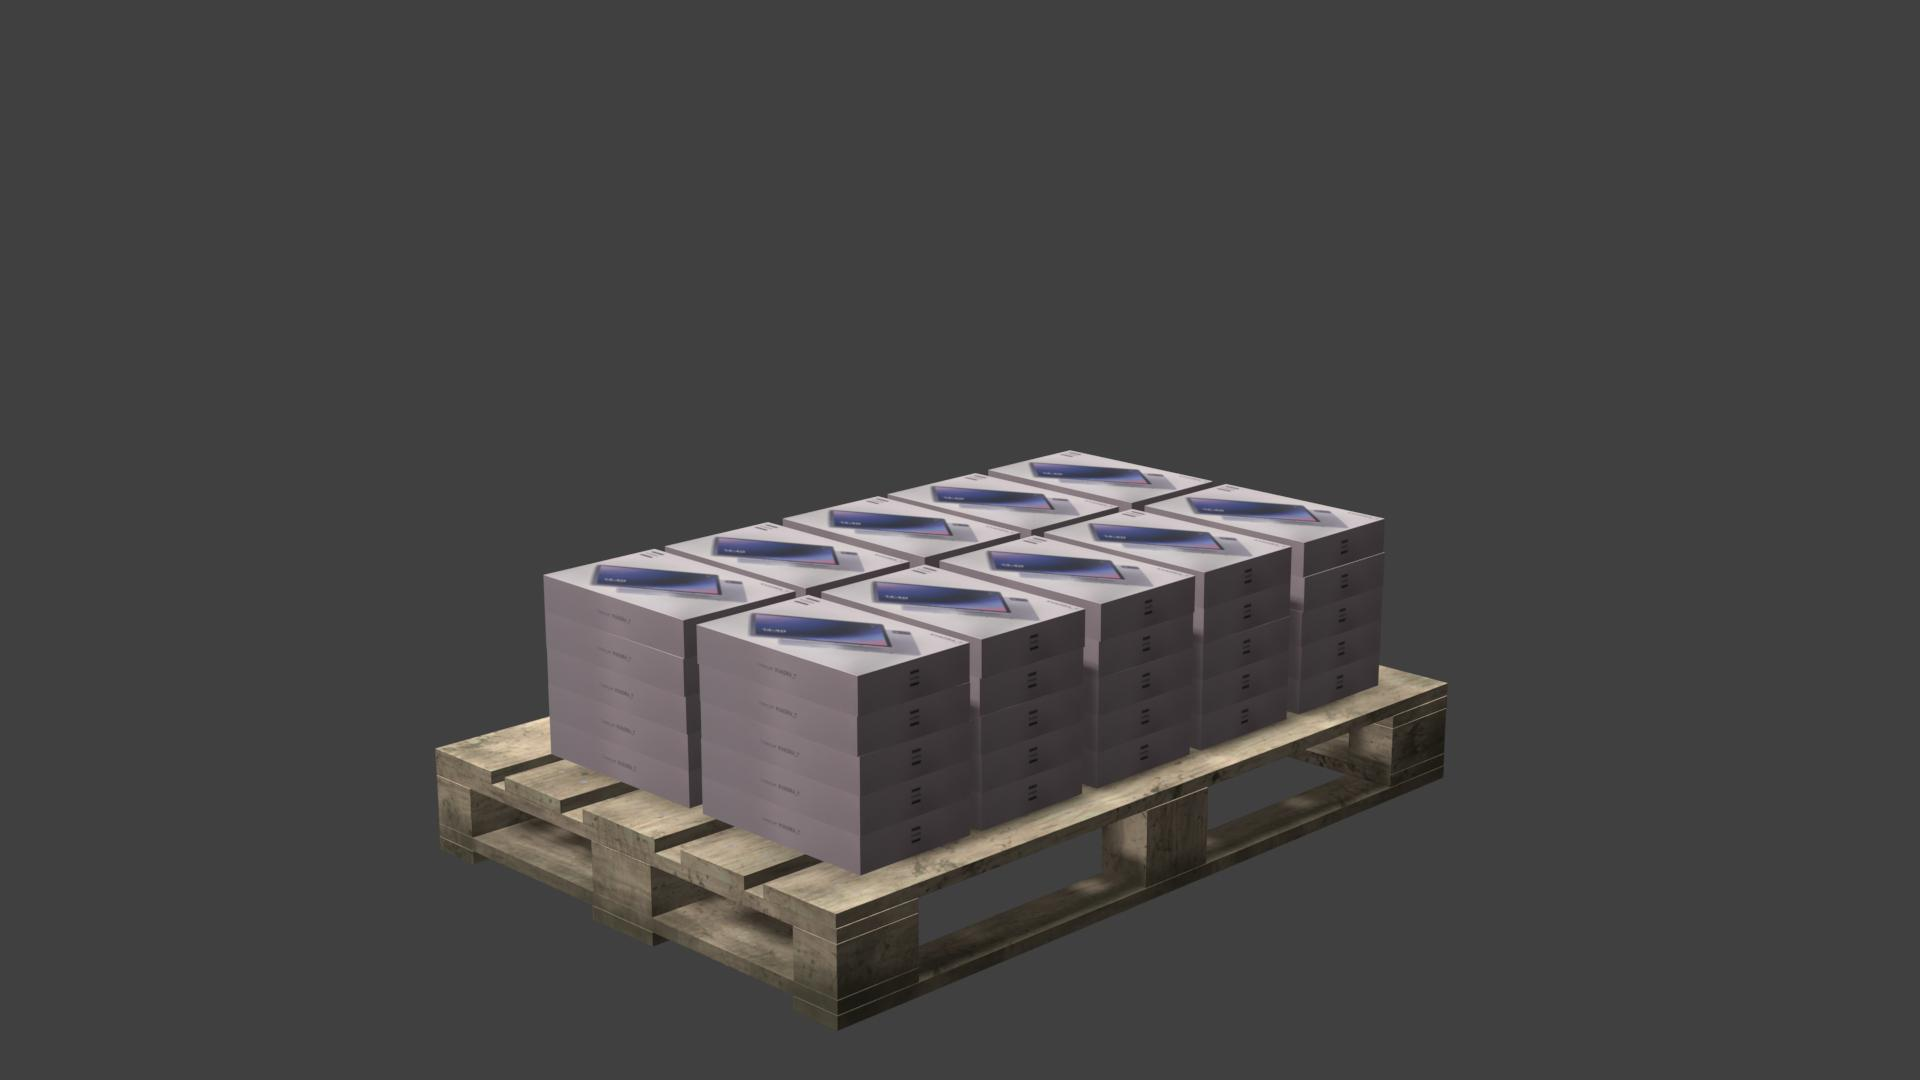palet: (435, 665, 1448, 1031)
tablet_left: (702, 777, 971, 876), (700, 738, 971, 836), (702, 702, 972, 796), (696, 625, 969, 717), (699, 663, 971, 756), (547, 682, 700, 773), (550, 717, 702, 808), (549, 650, 699, 735), (546, 615, 695, 698), (543, 576, 684, 659), (977, 684, 1085, 757), (977, 721, 1084, 794), (977, 758, 1083, 829), (978, 609, 1085, 679), (977, 649, 1084, 719), (1097, 611, 1196, 680), (1096, 649, 1192, 720), (1095, 721, 1189, 791), (1097, 575, 1195, 642), (1097, 684, 1191, 754), (1200, 616, 1291, 680), (1199, 686, 1287, 752), (1199, 651, 1288, 716), (1201, 583, 1291, 645), (1296, 585, 1383, 649), (1203, 549, 1291, 611), (1296, 654, 1379, 716), (1296, 621, 1381, 682), (1303, 521, 1385, 578), (1303, 554, 1383, 611)
tablet_top: (699, 593, 967, 678), (824, 564, 1084, 640), (545, 549, 793, 621), (940, 535, 1193, 604), (666, 522, 907, 588), (1044, 509, 1290, 574), (783, 496, 1017, 556), (1147, 485, 1383, 542), (889, 472, 1118, 530), (989, 450, 1212, 504)
